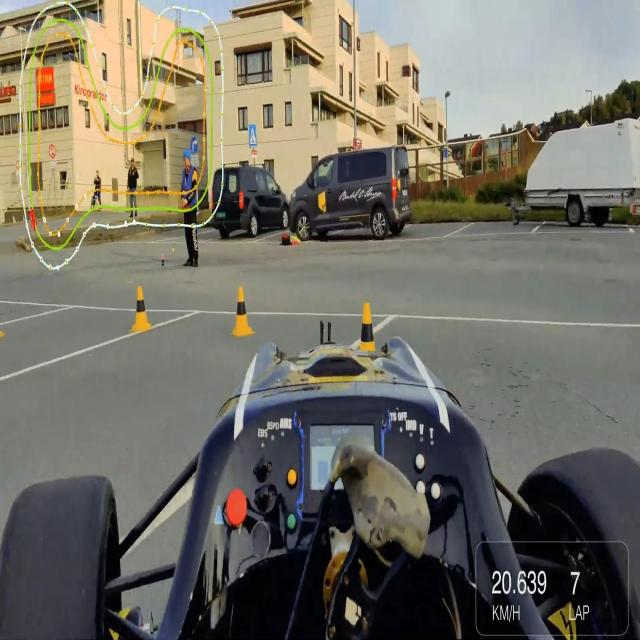yellow_cone: (228, 284, 255, 340), (130, 280, 154, 334), (357, 294, 379, 352)
